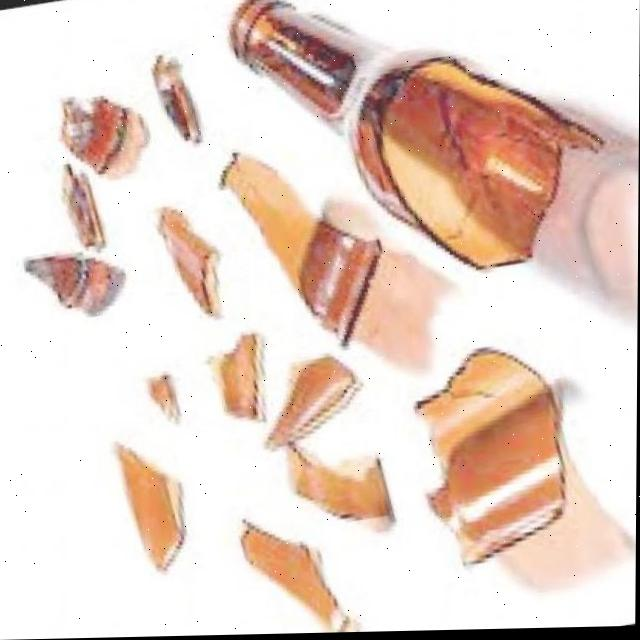Dry: (227, 0, 601, 280), (199, 343, 402, 632), (403, 351, 579, 580), (201, 152, 374, 359), (19, 79, 142, 317), (90, 435, 190, 579), (160, 207, 222, 314), (144, 52, 207, 139), (149, 367, 189, 429)
